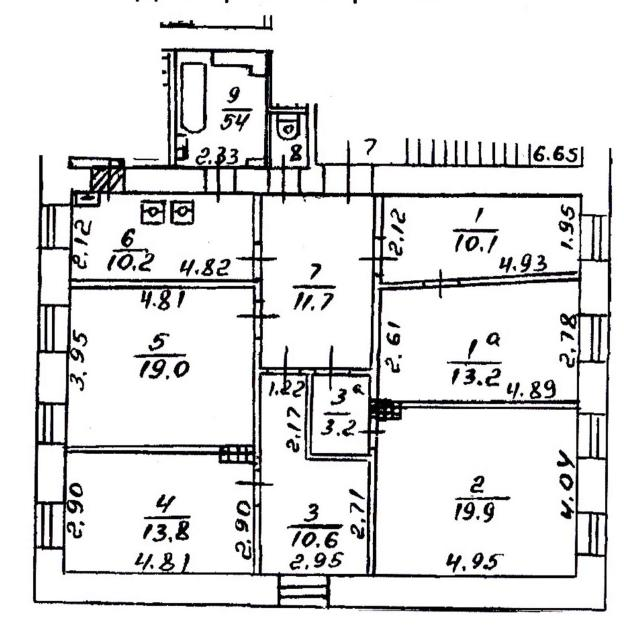Bathrooms: (177, 54, 264, 165), (272, 115, 307, 166)
Corridors: (264, 196, 371, 366), (315, 378, 367, 453)
Doors: (323, 138, 372, 205), (269, 152, 302, 207), (267, 343, 301, 396), (235, 302, 281, 339), (91, 157, 127, 203), (315, 345, 350, 392), (357, 238, 399, 276), (233, 470, 276, 507), (206, 153, 236, 204), (236, 244, 279, 279), (424, 269, 458, 299), (357, 420, 389, 450)
LBwalls: (330, 556, 607, 612), (32, 549, 278, 608), (373, 164, 580, 195), (159, 22, 276, 53), (580, 146, 612, 214), (126, 167, 205, 194), (575, 457, 608, 513), (35, 444, 66, 502), (38, 154, 73, 205), (39, 249, 71, 303), (579, 261, 610, 315), (36, 352, 69, 402), (577, 361, 608, 414), (237, 167, 267, 193), (71, 168, 91, 193)
Offices: (377, 411, 576, 573), (68, 291, 253, 445), (382, 283, 578, 399), (66, 455, 252, 572), (263, 377, 367, 573), (386, 198, 580, 280), (72, 195, 252, 278)
Walls: (350, 276, 577, 418), (67, 338, 266, 470), (301, 367, 379, 575), (265, 49, 326, 198), (71, 278, 263, 302), (459, 271, 579, 288), (167, 54, 175, 167), (253, 507, 262, 573), (253, 193, 262, 243), (374, 194, 384, 238)
Windows: (278, 574, 330, 608), (37, 303, 70, 353), (39, 202, 73, 249), (579, 214, 611, 262), (34, 501, 66, 549), (576, 413, 608, 459), (576, 511, 608, 557), (579, 316, 609, 361), (36, 402, 67, 444)
